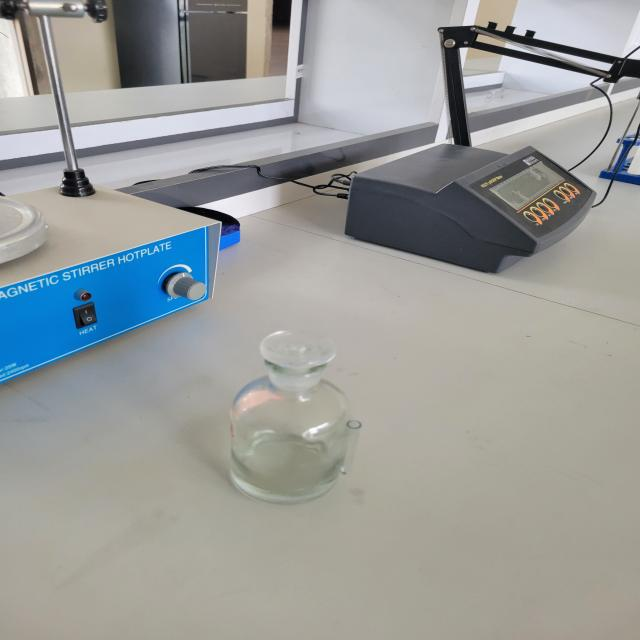Reagent_Bottle: (174, 302, 394, 540)
